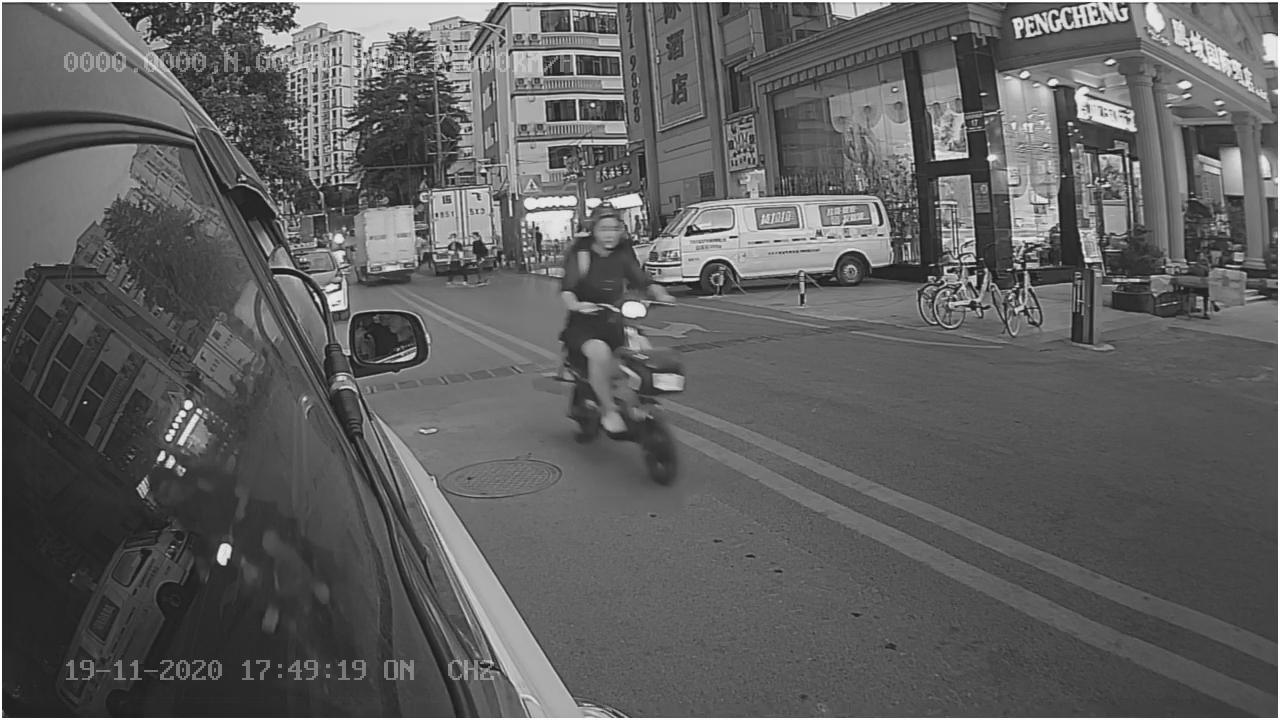person: (554, 203, 636, 315)
